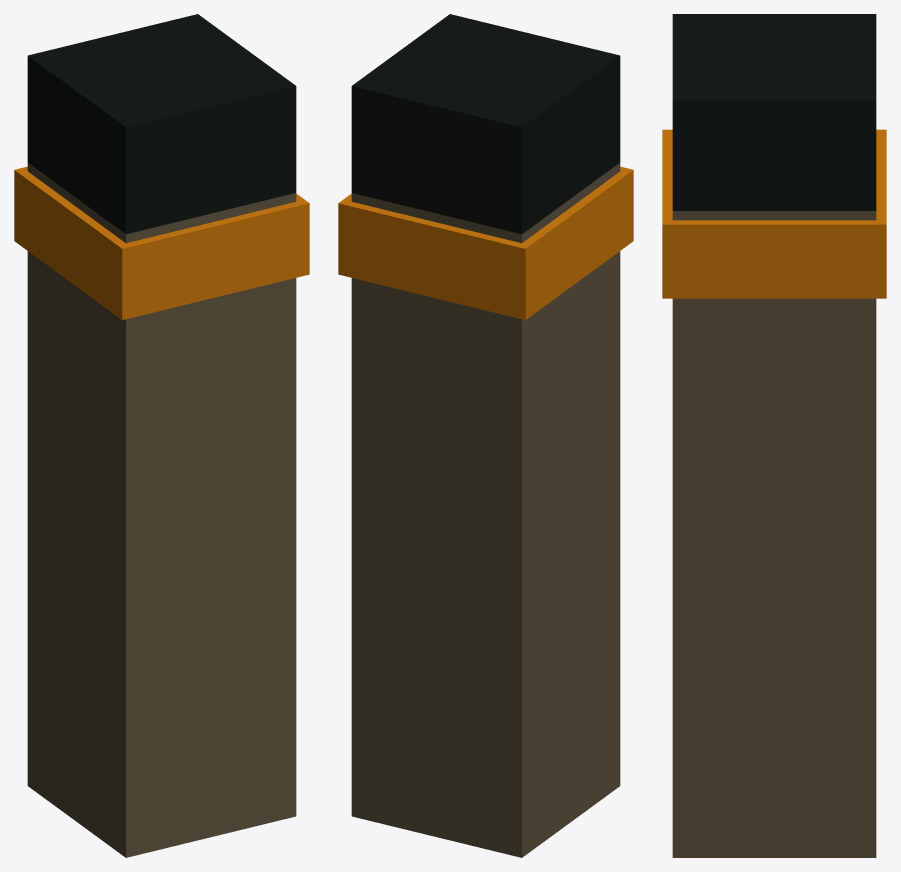
The model's file is SM_Bogota_Bolardo.fbx.
The picture shows the model from 3 angles, left to right: view 1: azimuth 30°, elevation 25°; view 2: azimuth 150°, elevation 25°; view 3: azimuth 270°, elevation 25°; orthographic projection. The views are drawn at different scales.
Parts seen in each view (by area): view 1: SM_Bogota_Bolardo; view 2: SM_Bogota_Bolardo; view 3: SM_Bogota_Bolardo.
Boxes of the visible parts, x1,y1,x2,y2 form: SM_Bogota_Bolardo: (14,14,309,857); SM_Bogota_Bolardo: (338,14,633,857); SM_Bogota_Bolardo: (662,14,886,857).
Bounding box in the file's own units: 0.22 × 0.22 × 0.82.
